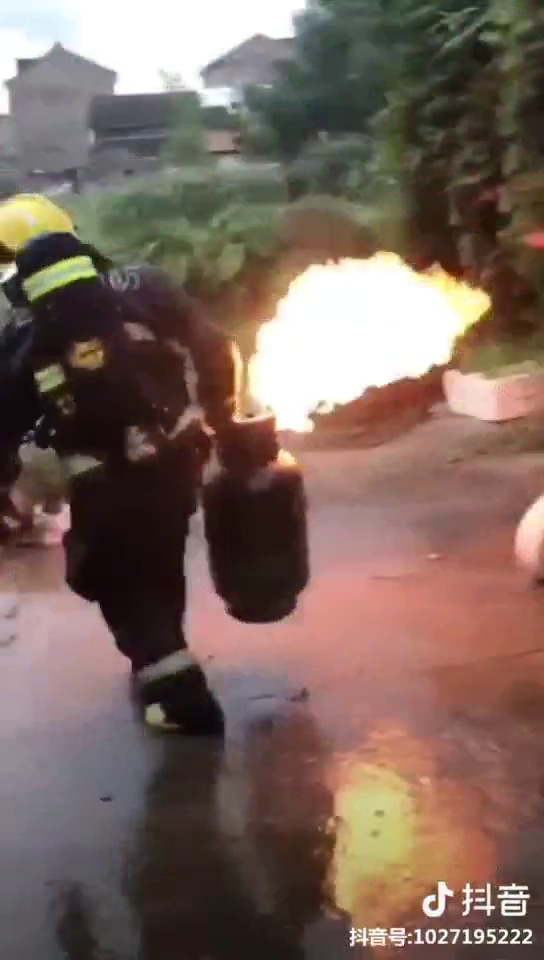fire: (227, 227, 485, 422)
